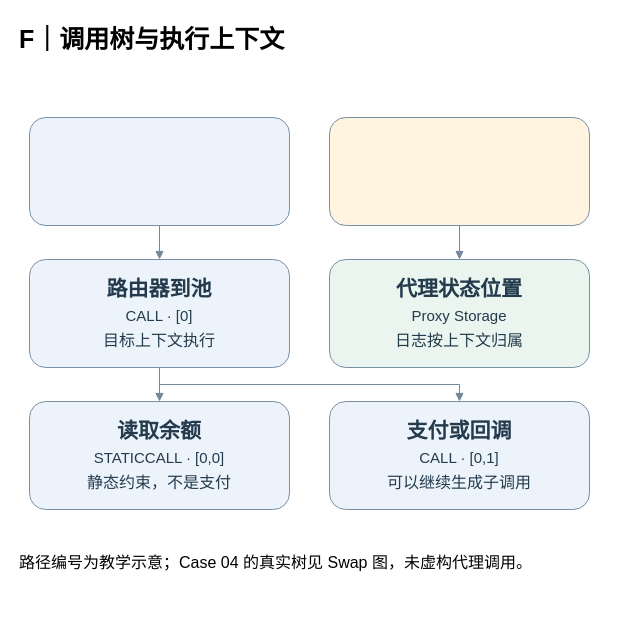
Some shapes in this 618 by 633 pixel diagram are drawn without their labels. The shapes that lost their labels are listed below. From the top down, each one's centre as x and y in pixels, then its label:
(159,171): 用户到路由器 CALL · root [] 一份签名交易
(459,171): 独立代理示意 DELEGATECALL 借用代码，保留上下文
